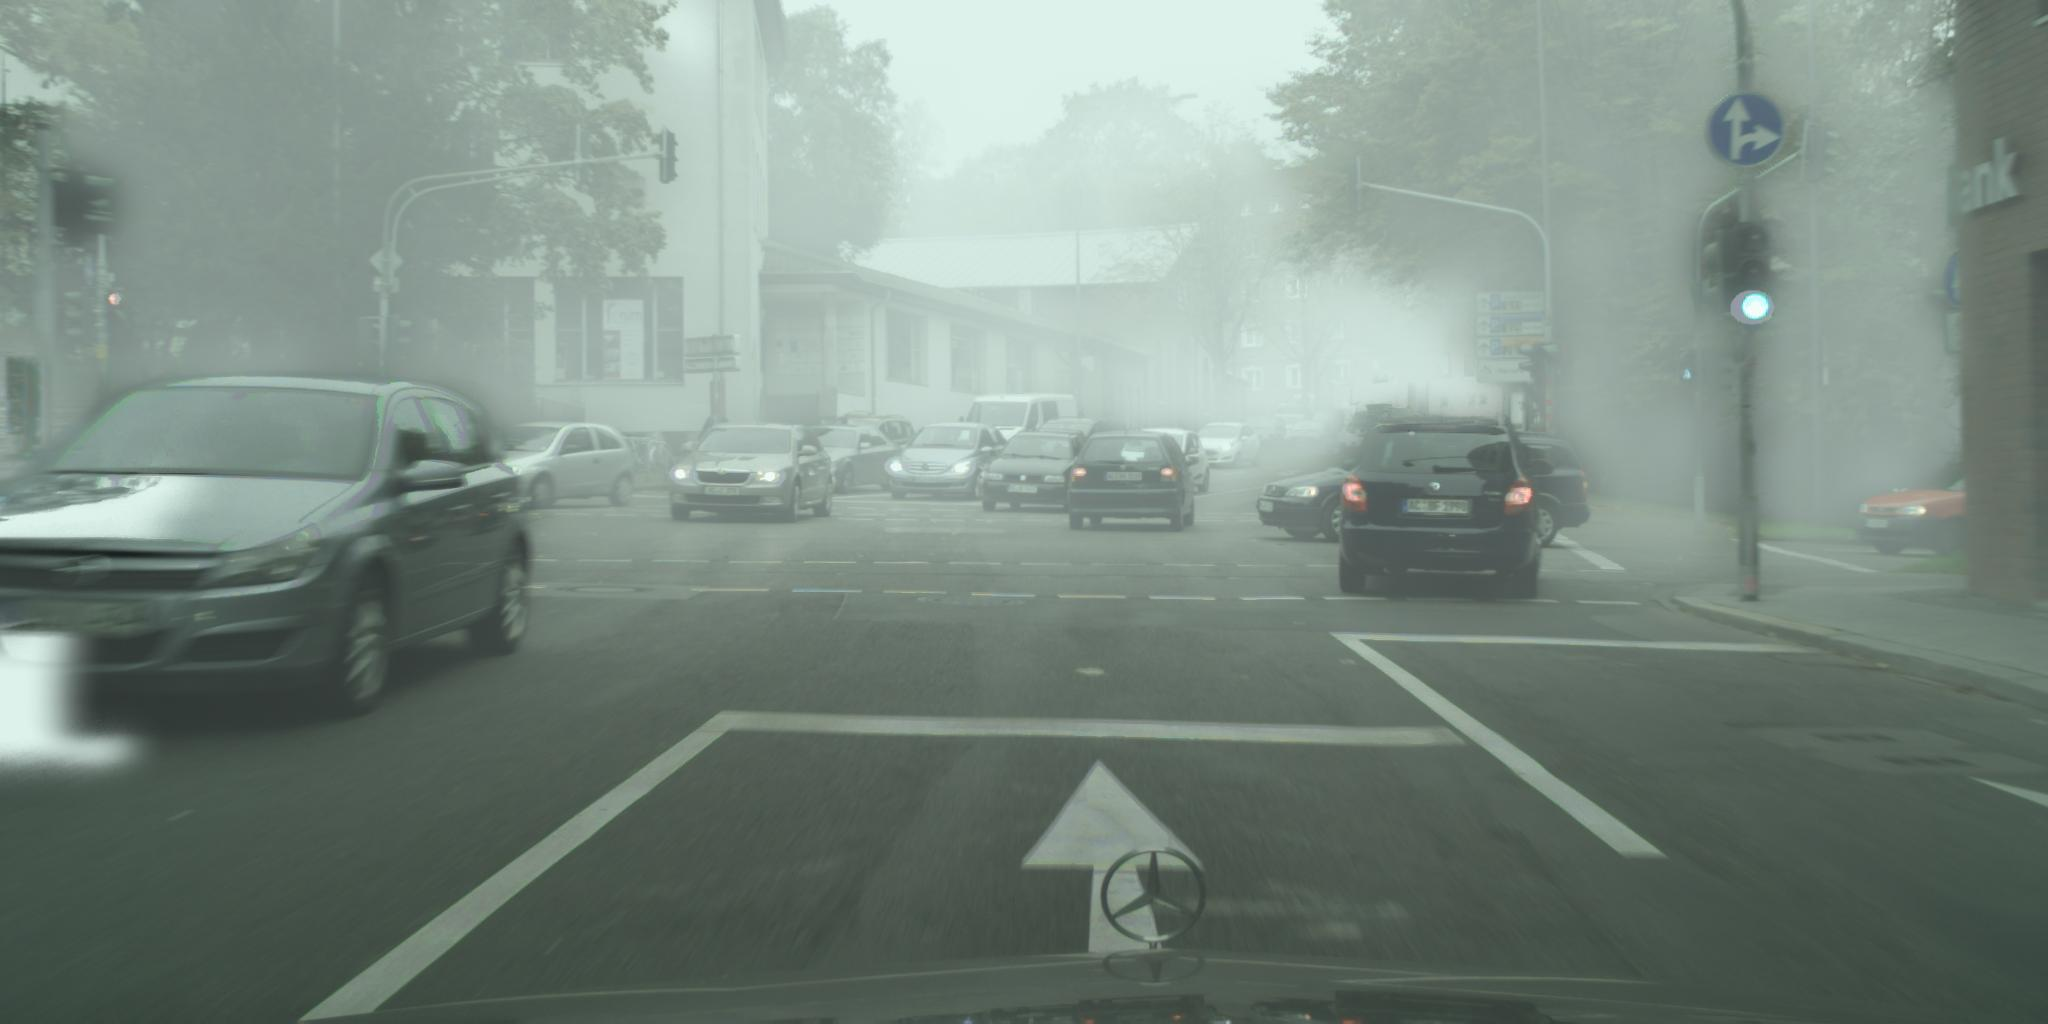bicycle: (623, 440, 657, 475), (650, 434, 677, 475)
car: (1, 374, 533, 714), (1341, 413, 1553, 598), (1256, 432, 1591, 546), (671, 423, 833, 522), (474, 423, 636, 508), (1068, 430, 1195, 532), (1856, 462, 1967, 556), (886, 423, 1012, 500), (891, 423, 1012, 500), (984, 430, 1091, 512), (792, 424, 904, 494), (959, 393, 1078, 444), (1132, 428, 1209, 492), (825, 411, 916, 451), (1194, 421, 1260, 468), (1034, 418, 1130, 445), (1283, 421, 1341, 455), (1241, 415, 1288, 452), (1347, 411, 1391, 447), (1307, 410, 1356, 441), (1276, 394, 1331, 418), (1382, 408, 1418, 428), (1270, 415, 1310, 434), (1362, 405, 1396, 415)
